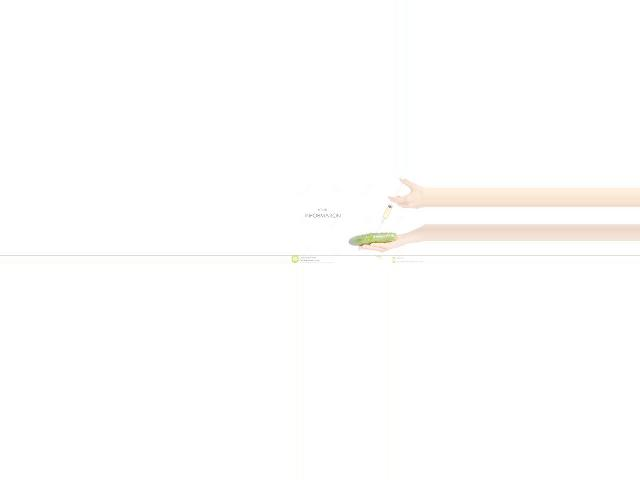cucumber: (349, 233, 397, 246)
